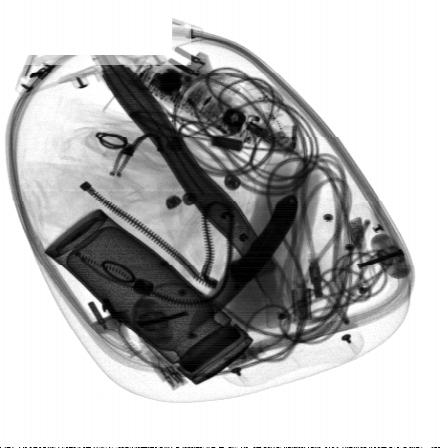Knife: (188, 194, 297, 337)
